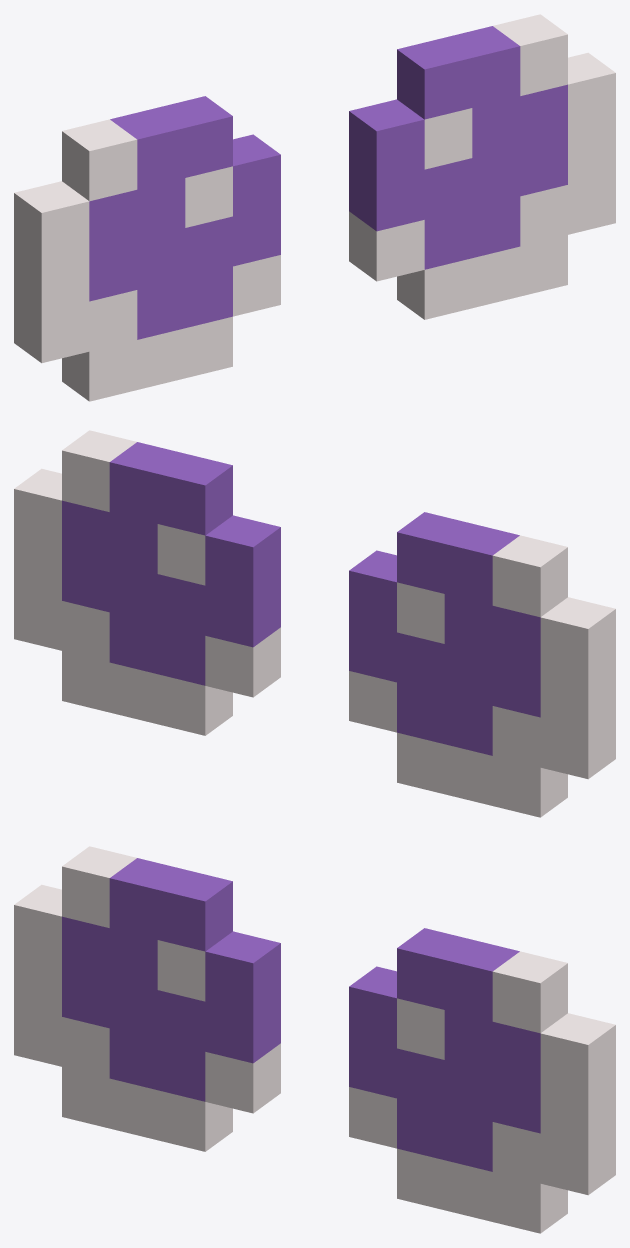
Rendered from rare high 2.fbx.
The picture shows the model from 3 angles, top to bottom: view 1: azimuth 30°, elevation 25°; view 2: azimuth 150°, elevation 25°; view 3: azimuth 330°, elevation 25°; orthographic projection.
Visible parts, largest first — view 1: rare high 2; view 2: rare high 2; view 3: rare high 2.
Boxes of the visible parts, <box> form: rare high 2: <box>14,14,615,401</box>; rare high 2: <box>14,430,615,817</box>; rare high 2: <box>14,846,615,1233</box>.
Bounding box in the file's own units: 1.2 × 0.5 × 0.1.
1 material, 1 textured.
